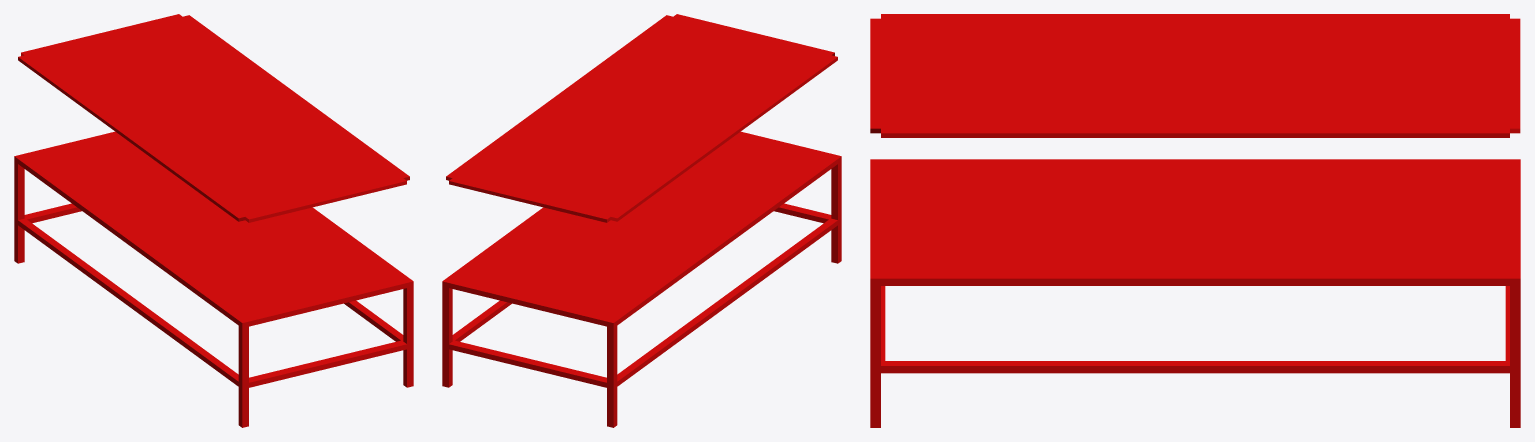
The model's file is LargeTable_low2.fbx.
3 views of the same model, side by side, from view 1: azimuth 30°, elevation 25°; view 2: azimuth 150°, elevation 25°; view 3: azimuth 270°, elevation 25° (orthographic). The views are drawn at different scales.
Visible parts, largest first — view 1: table_low1, table_low; view 2: table_low1, table_low; view 3: table_low1, table_low.
Boxes of the visible parts, box(x1,y1,x2,y2) form: table_low1: box(14, 131, 413, 427); table_low: box(18, 14, 409, 222); table_low1: box(442, 131, 841, 427); table_low: box(446, 14, 837, 222); table_low1: box(870, 159, 1520, 427); table_low: box(870, 14, 1520, 137).
Size of the model in its own units: 12.51 by 14.43 by 28.83.
